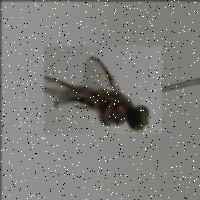Oriental-fruit-fly: (43, 45, 161, 133)
